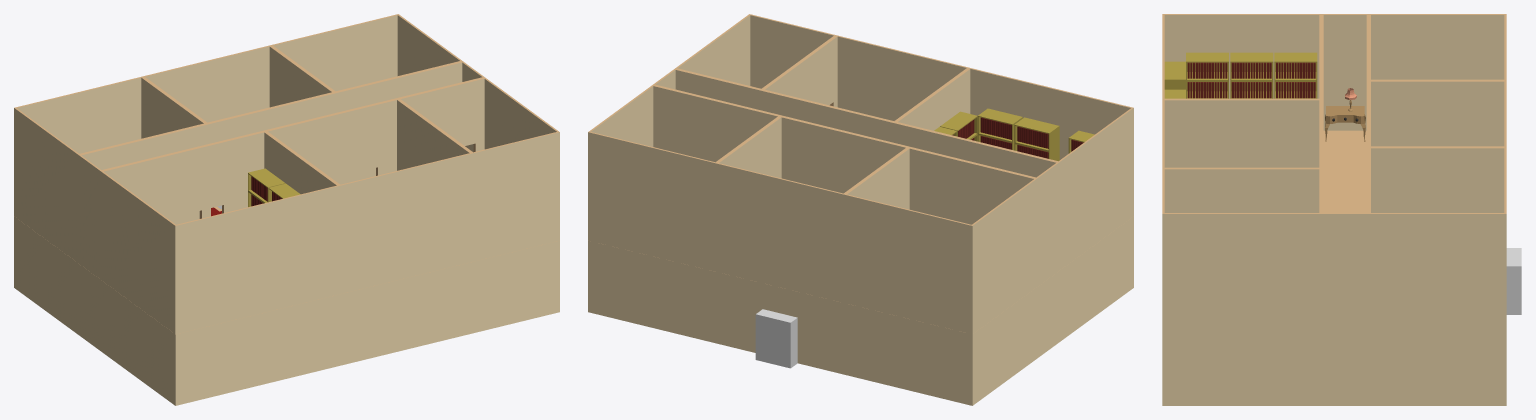
The model's file is hauntedmansion.glb.
3 views of the same model, side by side, from view 1: azimuth 30°, elevation 25°; view 2: azimuth 150°, elevation 25°; view 3: azimuth 270°, elevation 25° (orthographic). The views are drawn at different scales.
Visible parts, largest first — view 1: Plane.002, Walls, Cube.007; view 2: Plane.002, Walls, Door holes, Cube.012, Cube.011, Cube.009; view 3: Plane.002, Walls, Plane.003, Cube.015, Cube.016, Cube.014, Door holes, Table.001, Cube.013.
Boxes of the visible parts, x1=… form: Plane.002: x1=14, y1=14, x2=559, y2=334; Walls: x1=14, y1=216, x2=559, y2=405; Cube.007: x1=248, y1=168, x2=285, y2=206; Plane.002: x1=588, y1=14, x2=1133, y2=334; Walls: x1=588, y1=216, x2=1133, y2=405; Door holes: x1=755, y1=309, x2=797, y2=368; Cube.012: x1=1014, y1=117, x2=1059, y2=161; Cube.011: x1=977, y1=108, x2=1022, y2=150; Cube.009: x1=940, y1=111, x2=977, y2=141; Plane.002: x1=1162, y1=14, x2=1506, y2=329; Walls: x1=1162, y1=329, x2=1506, y2=405; Plane.003: x1=1323, y1=130, x2=1366, y2=212; Cube.015: x1=1230, y1=52, x2=1273, y2=98; Cube.016: x1=1274, y1=52, x2=1317, y2=98; Cube.014: x1=1186, y1=52, x2=1228, y2=98; Door holes: x1=1506, y1=248, x2=1521, y2=314; Table.001: x1=1325, y1=106, x2=1365, y2=141; Cube.013: x1=1164, y1=61, x2=1185, y2=89.
Size of the model in its own units: 22 by 9.89 by 16.7.
